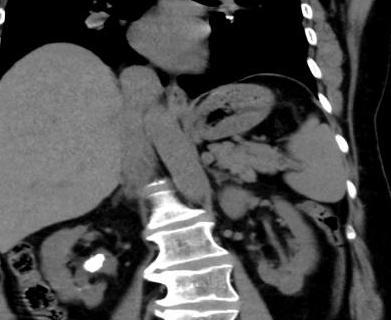Tas_Var: (79, 250, 109, 276), (76, 288, 82, 292)
